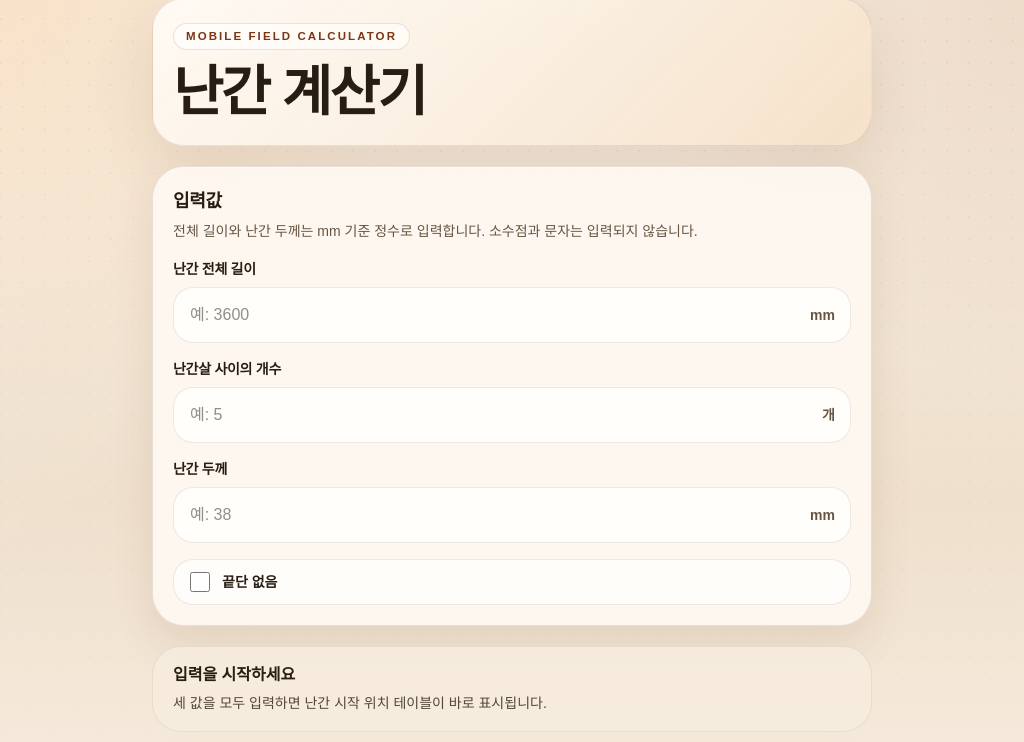
it: FrameCalcApp › saves a valid calculation when an input loses focus
The width and height of the screenshot is (1024, 742).
Type "3600" into the field labelled "난간 전체 길이" at (512, 315), box left=173, top=287, right=851, bottom=343
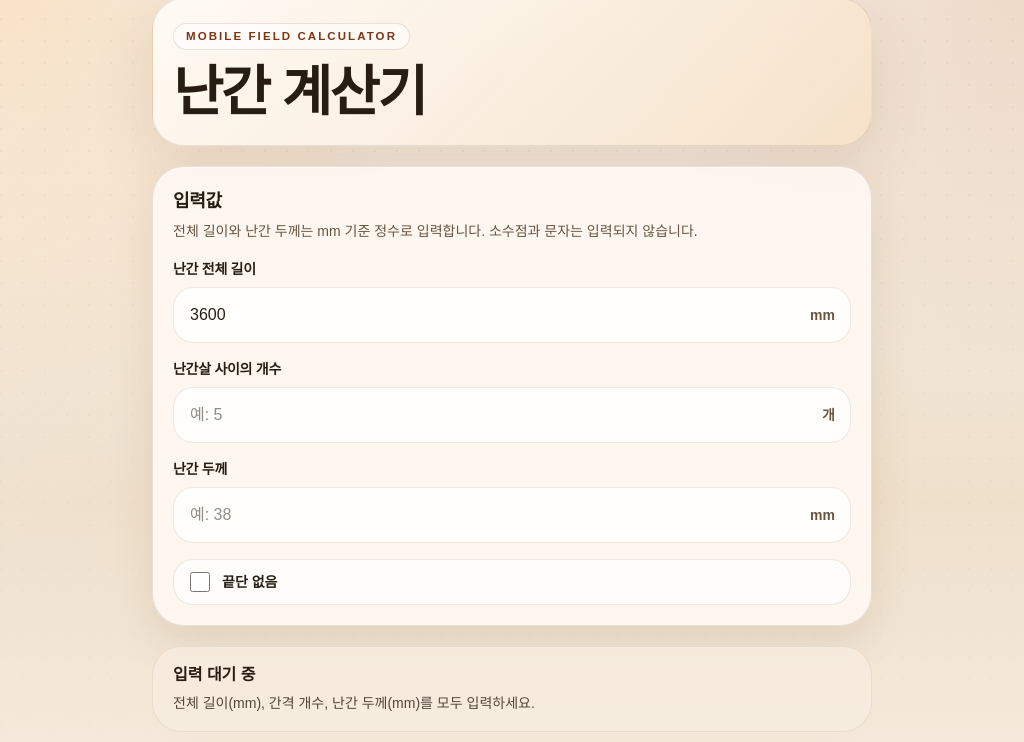
Type "5" into the field labelled "난간살 사이의 개수" at (512, 415), box left=173, top=387, right=851, bottom=443
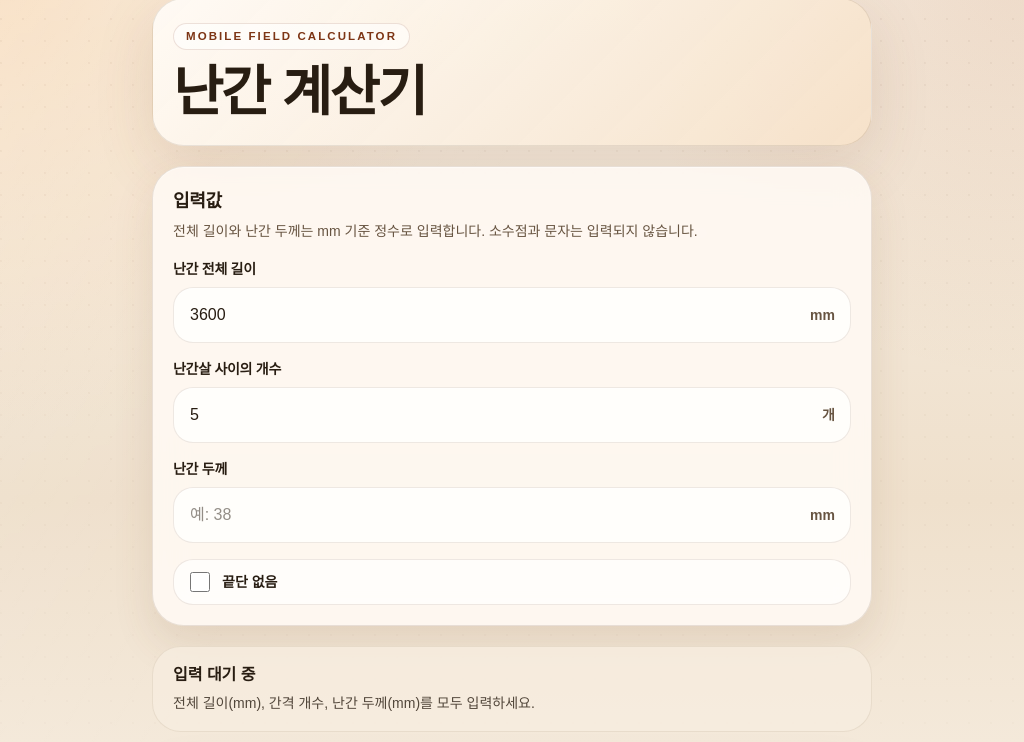
Type "38" into the field labelled "난간 두께" at (512, 515), box left=173, top=487, right=851, bottom=543
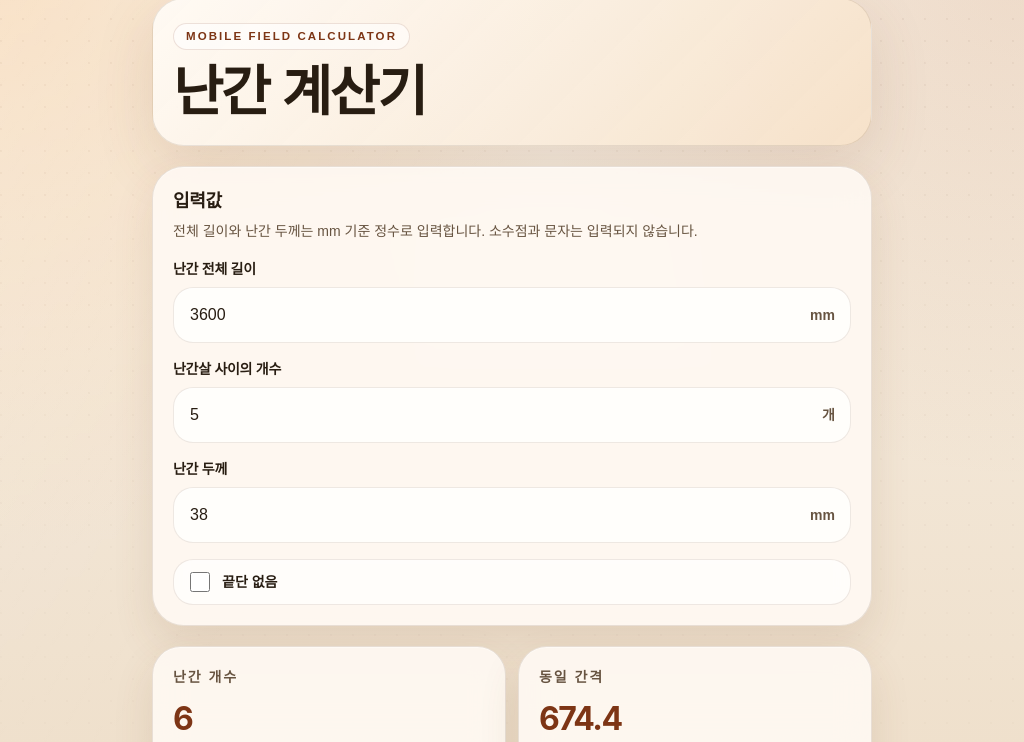
Leave the field labelled "난간 두께", box left=173, top=487, right=851, bottom=543
(page scrolled)
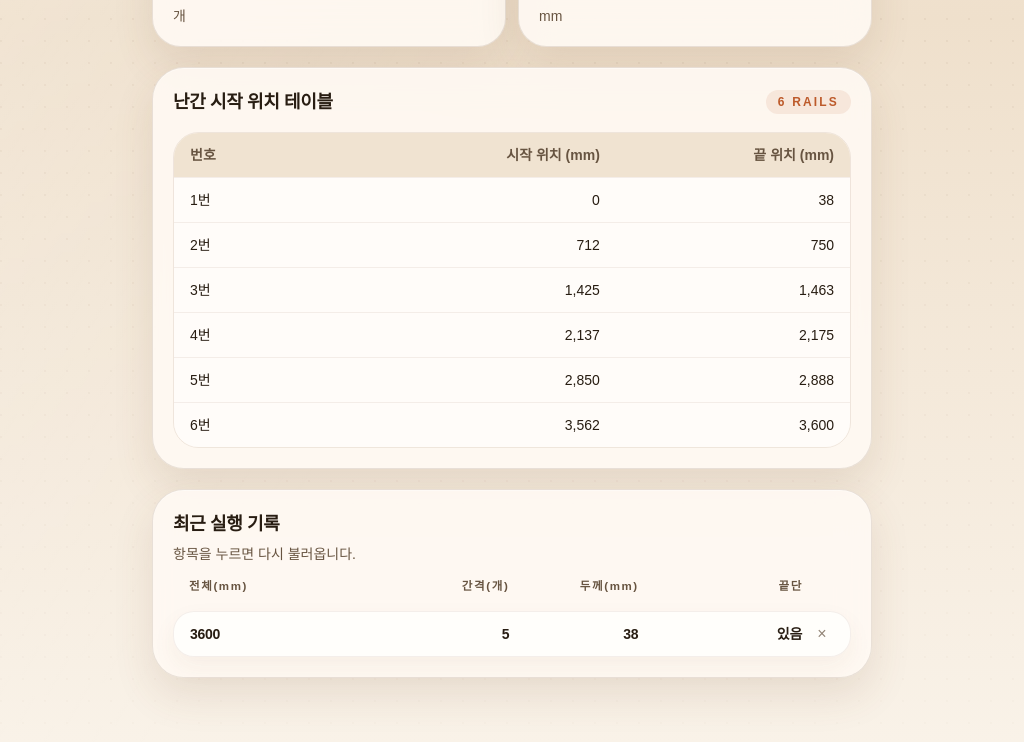
Expected: the button with aria-label "전체 3600mm · 간격 5개 · 두께 38mm · 끝단 있음" is shown, left=174, top=612, right=850, bottom=656
Expected: the text "전체(mm)" is shown once, left=189, top=580, right=248, bottom=592
Expected: the text "간격(개)" is shown once, left=462, top=580, right=509, bottom=592
